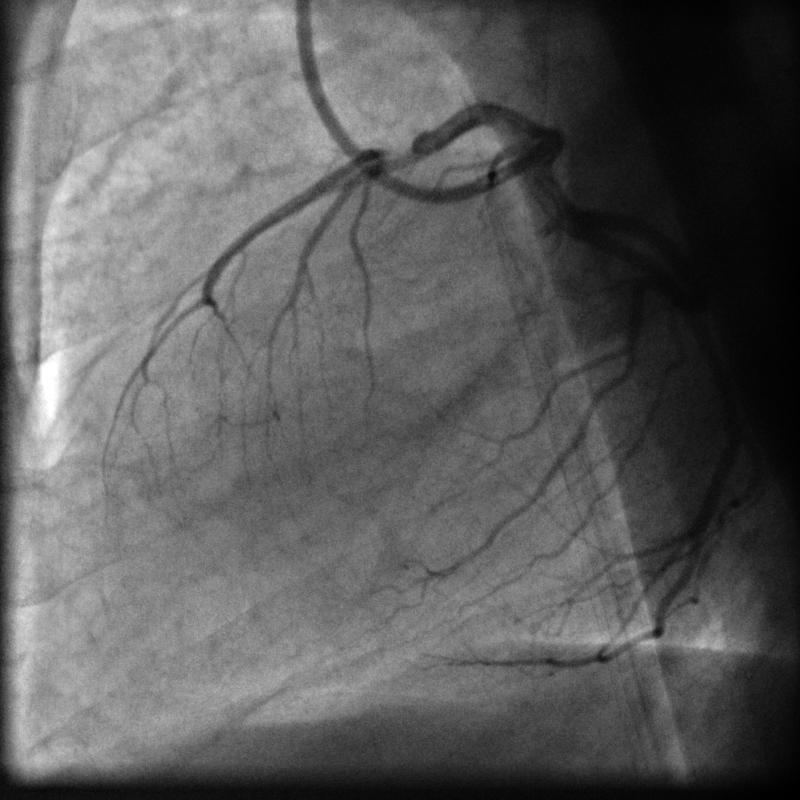Stenosis: (373, 143, 427, 173)
